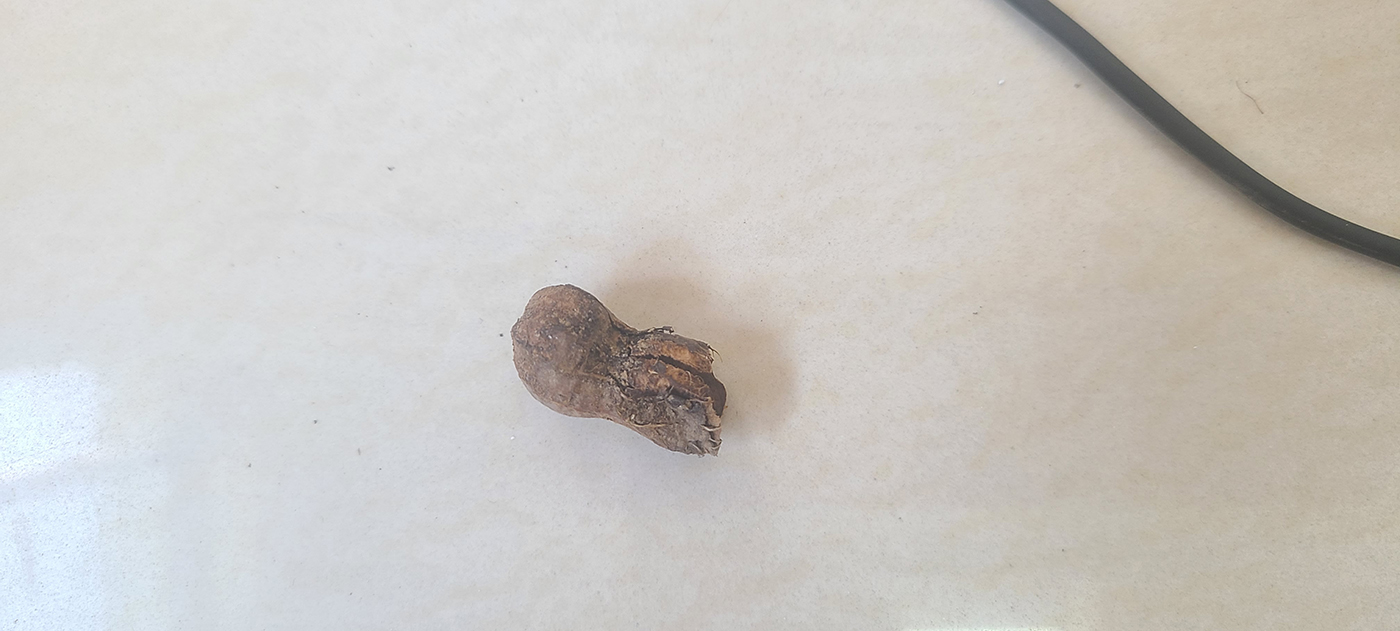l: (510, 282, 730, 459)
